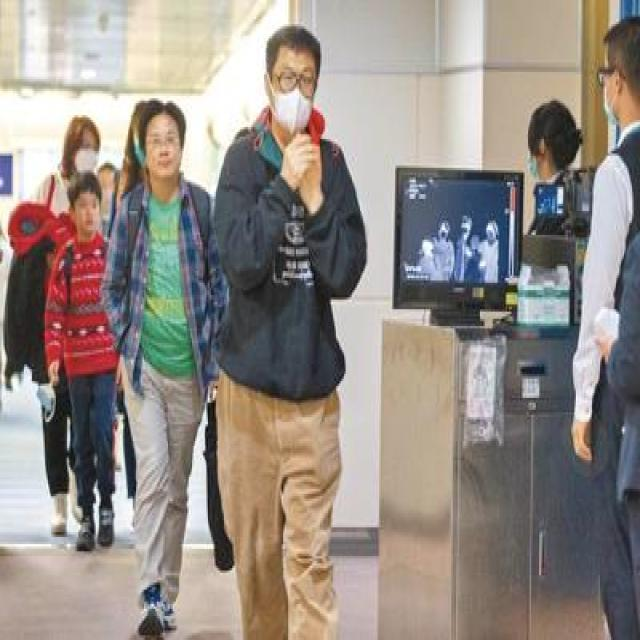with_mask: (271, 61, 318, 135), (72, 135, 99, 181)
without_mask: (142, 126, 185, 181), (75, 193, 102, 236)
